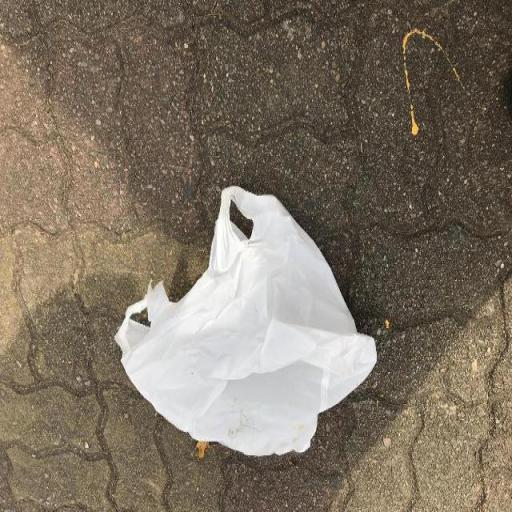plastic-bag: (111, 184, 380, 458)
